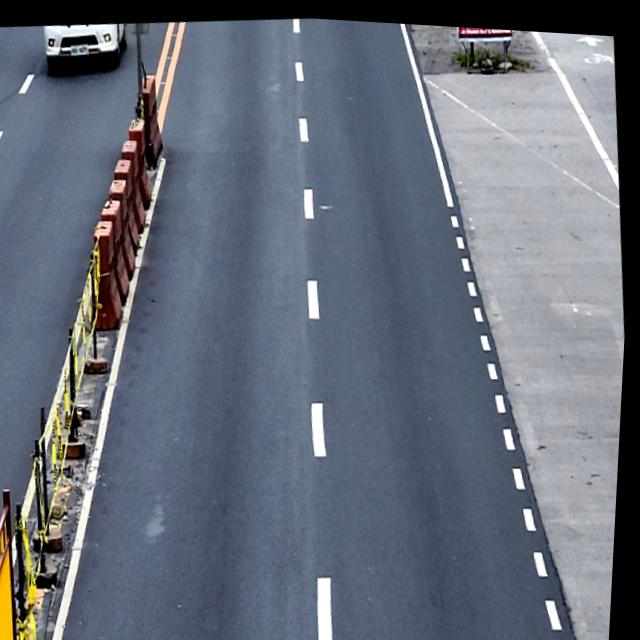Car: (41, 18, 130, 73)
License-Plate: (69, 42, 89, 57)
